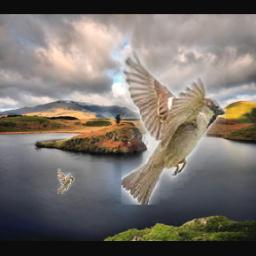Sparrow: (121, 49, 226, 205), (57, 169, 74, 195)
